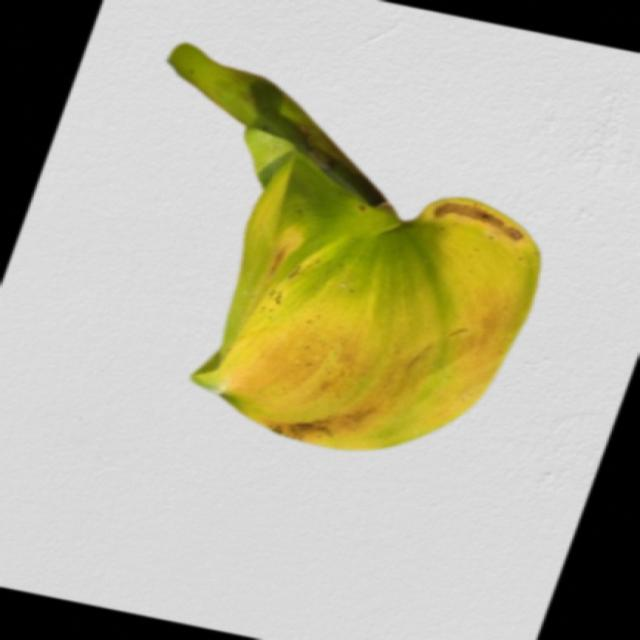daun berpenyakit kuning: (168, 44, 540, 449)
